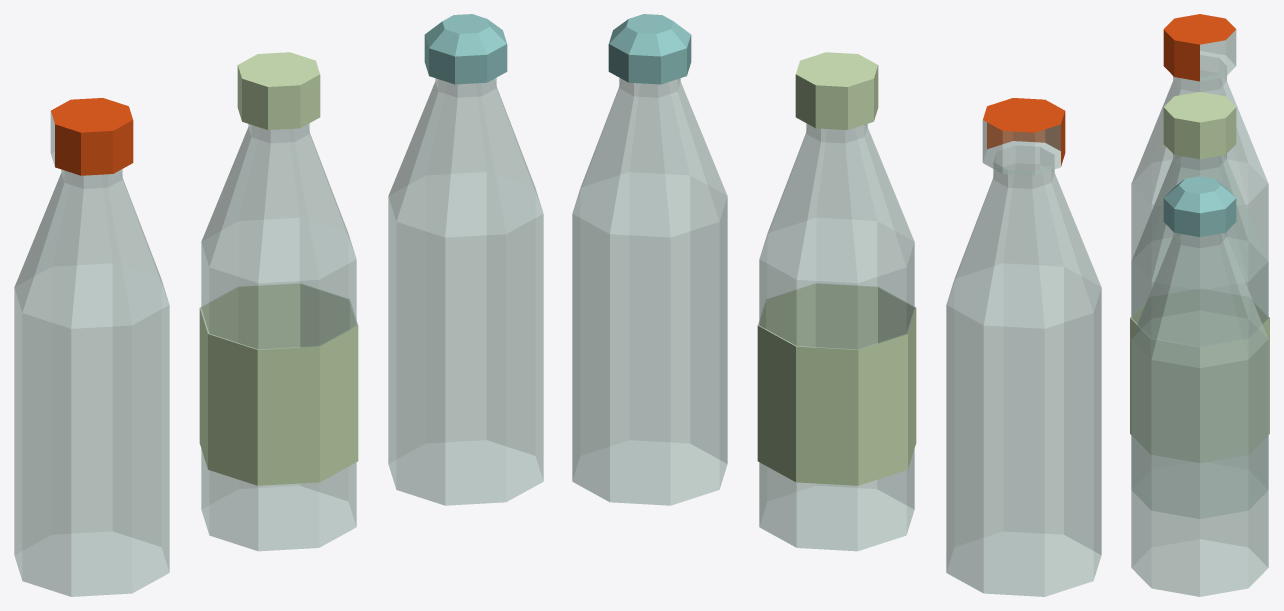
The model's file is sauces_kitchen_asset.fbx.
The picture shows the model from 3 angles, left to right: view 1: azimuth 30°, elevation 25°; view 2: azimuth 150°, elevation 25°; view 3: azimuth 270°, elevation 25°; orthographic projection. The views are drawn at different scales.
Parts seen in each view (by area): view 1: Cylinder.020, Cylinder.019, Cylinder.021; view 2: Cylinder.020, Cylinder.019, Cylinder.021; view 3: Cylinder.021, Cylinder.020, Cylinder.019.
Part boxes in pixels (bbox=[...]): Cylinder.020: bbox=[199, 52, 358, 551]; Cylinder.019: bbox=[14, 98, 169, 596]; Cylinder.021: bbox=[388, 14, 543, 505]; Cylinder.020: bbox=[757, 52, 916, 551]; Cylinder.019: bbox=[946, 98, 1101, 596]; Cylinder.021: bbox=[572, 14, 727, 505]; Cylinder.021: bbox=[1131, 176, 1268, 596]; Cylinder.020: bbox=[1130, 92, 1269, 518]; Cylinder.019: bbox=[1131, 14, 1268, 314].
Size of the model in its own units: 51.7 by 43.22 by 14.31.
